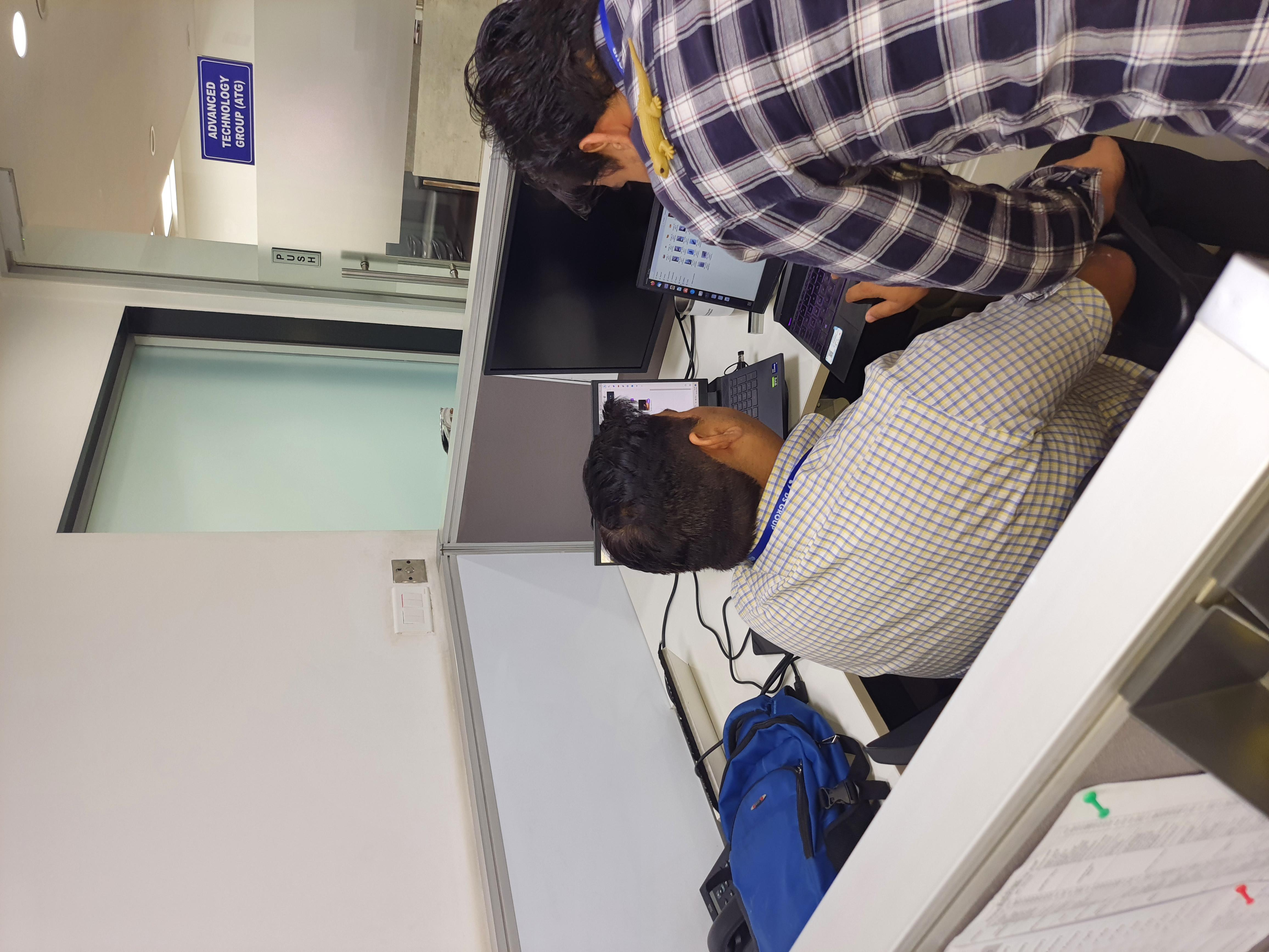lizard: (1018, 468, 1269, 519)
